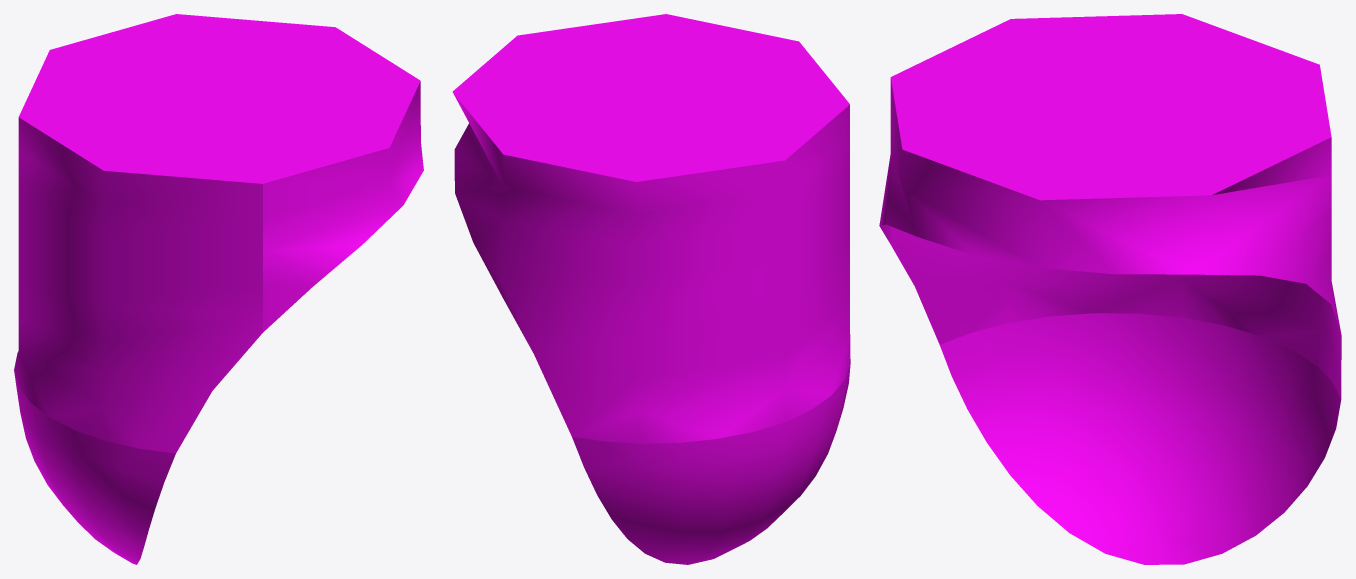
Rendered from original-47.obj.
3 renders of one model, left to right at view 1: azimuth 30°, elevation 25°; view 2: azimuth 150°, elevation 25°; view 3: azimuth 270°, elevation 25°, orthographic. The views are drawn at different scales.
Parts seen in each view (by area): view 1: Obj_000045/mesh46/mesh46-geometry#mesh46-geometry; view 2: Obj_000045/mesh46/mesh46-geometry#mesh46-geometry; view 3: Obj_000045/mesh46/mesh46-geometry#mesh46-geometry.
Boxes of the visible parts, x1=… form: Obj_000045/mesh46/mesh46-geometry#mesh46-geometry: x1=14, y1=14, x2=423, y2=564; Obj_000045/mesh46/mesh46-geometry#mesh46-geometry: x1=452, y1=14, x2=850, y2=564; Obj_000045/mesh46/mesh46-geometry#mesh46-geometry: x1=879, y1=14, x2=1341, y2=564.
Size of the model in its own units: 0.0465 by 0.0557 by 0.0465.
